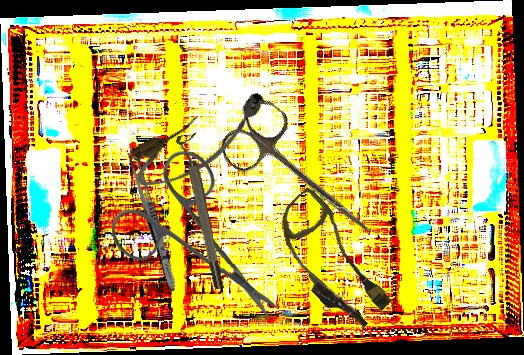Cannula: (257, 185, 406, 337), (123, 82, 280, 198)
Dressing Forceps: (125, 150, 180, 293)
Fixation Ring: (175, 132, 227, 292)
Iris Scissors: (213, 93, 397, 259), (110, 148, 279, 323)
